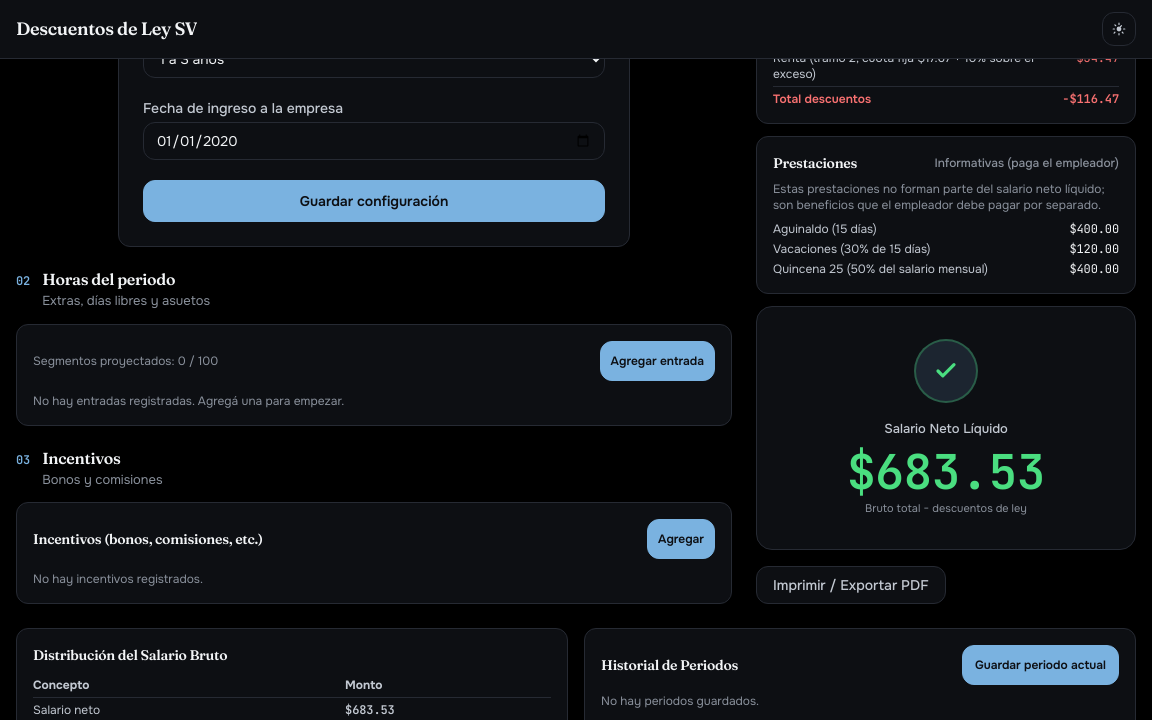
Test: App › validación de entradas inválidas (Reglas 1 y 3) › muestra feedback inline en filas con horas > 24 y las excluye del cálculo
The width and height of the screenshot is (1152, 720).
(page scrolled)
Click the button "Agregar entrada" at (657, 361), box [600, 341, 715, 381]
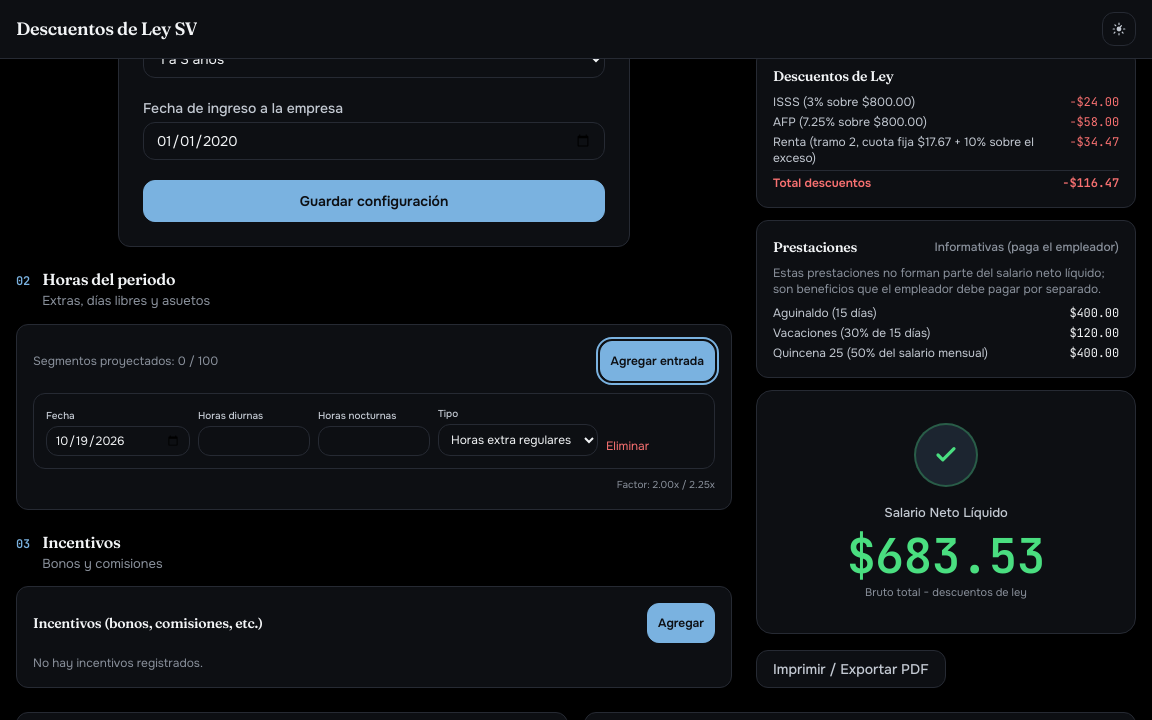
Type "30" into the number field labelled "Horas diurnas" at (254, 441), box [198, 426, 310, 456]
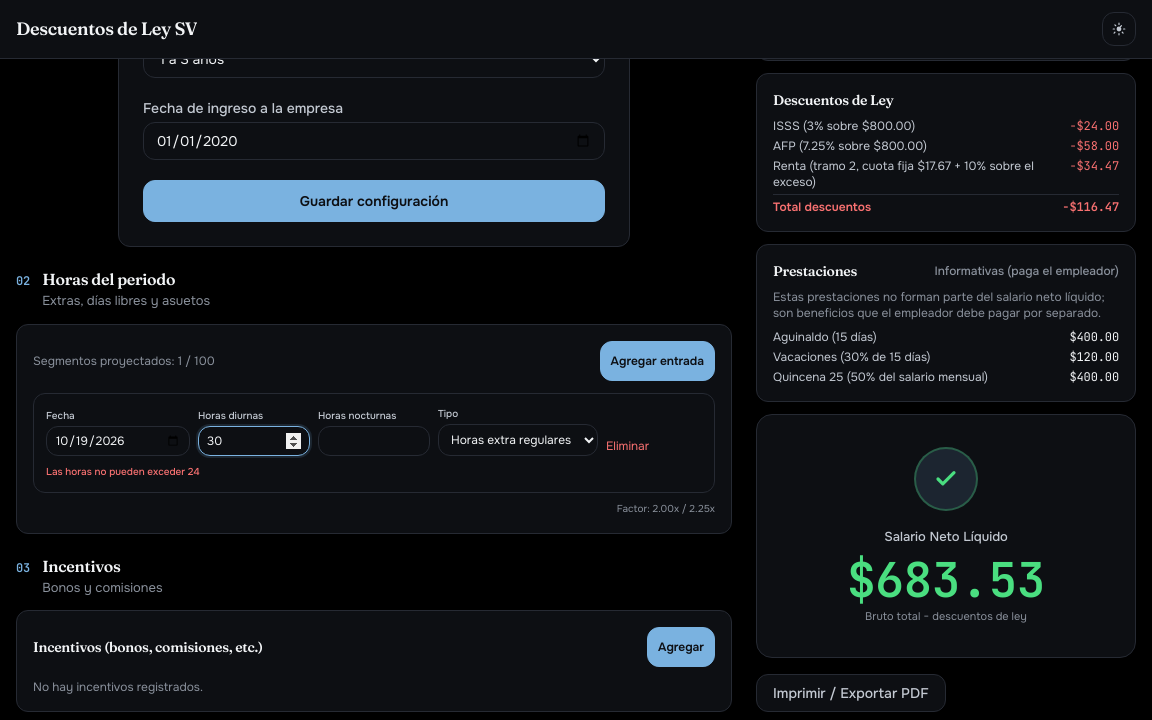
Now the message shows "no pueden exceder 24", box [46, 465, 200, 478]
